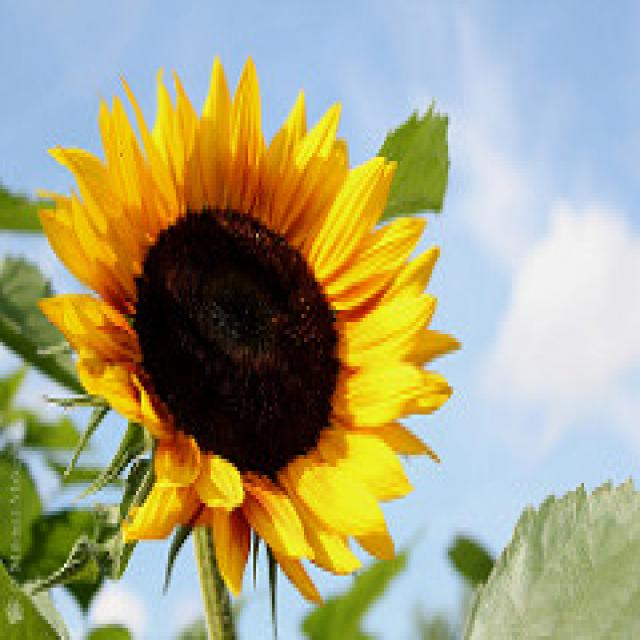sunflower: (39, 38, 473, 594)
